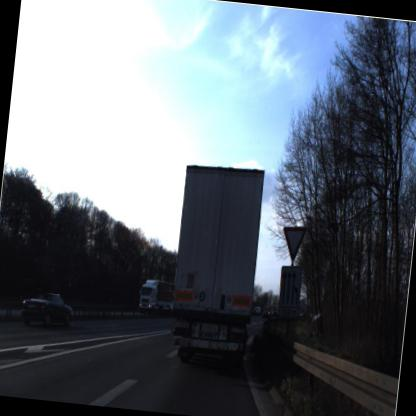other: (276, 223, 310, 264)
